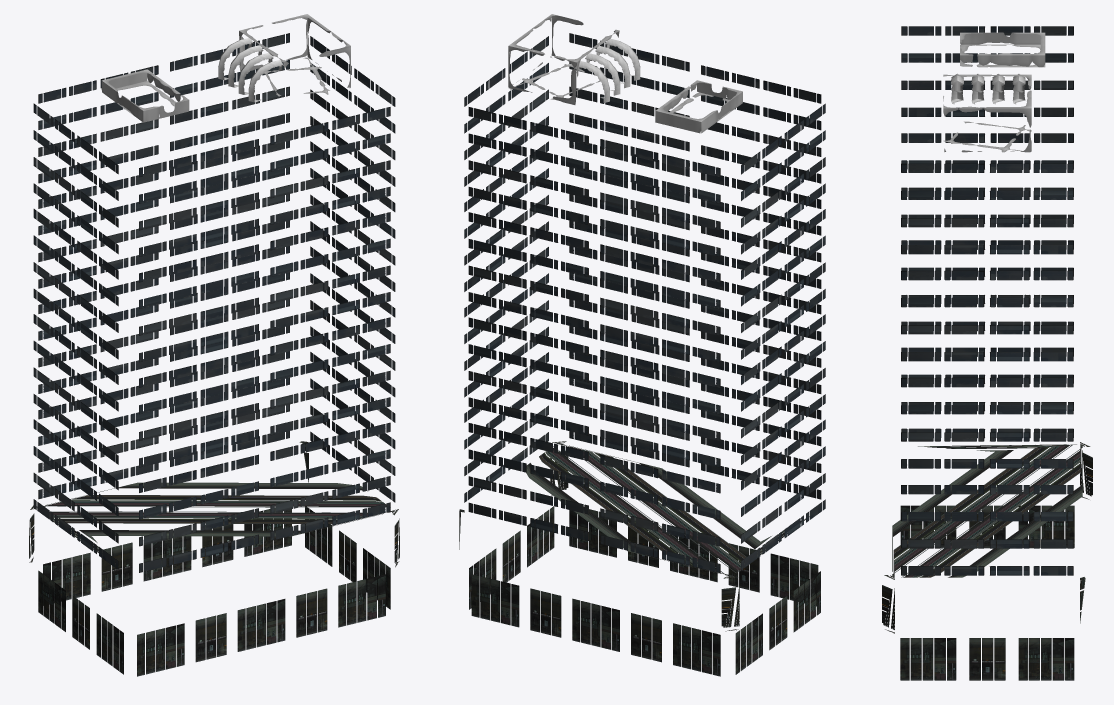
The model's file is si_building_01.fbx.
3 renders of one model, left to right at view 1: azimuth 30°, elevation 25°; view 2: azimuth 150°, elevation 25°; view 3: azimuth 270°, elevation 25°, orthographic.
Visible parts, largest first — view 1: si_building_01; view 2: si_building_01; view 3: si_building_01.
Boxes of the visible parts, box(x1,y1,x2,y2) form: si_building_01: box(29, 14, 399, 676); si_building_01: box(459, 14, 825, 676); si_building_01: box(882, 26, 1092, 680).
Size of the model in its own units: 87.5 by 159 by 57.
Materials: 1 (1 with a texture image).
